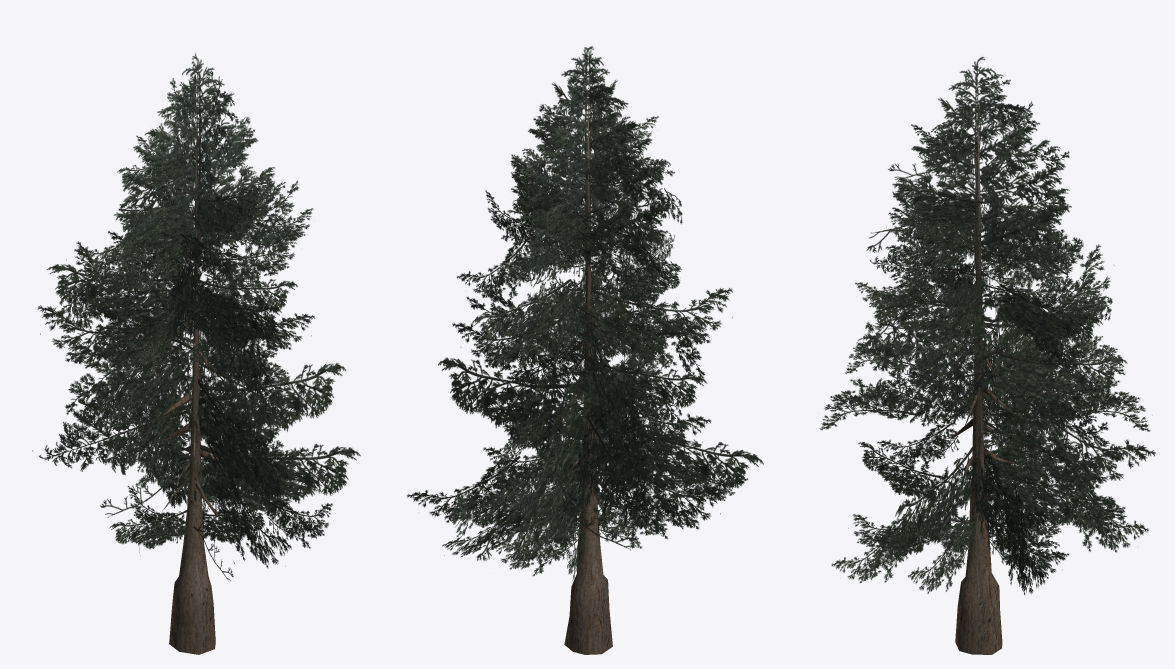
The model's file is tree-fir-wide.glb.
3 renders of one model, left to right at view 1: azimuth 30°, elevation 25°; view 2: azimuth 150°, elevation 25°; view 3: azimuth 270°, elevation 25°, orthographic.
Visible parts, largest first — view 1: Tree_Branches_01.002_Tree_Branches_01_0, Tree_Trunk_01.002_Tree_Trunk_01_0; view 2: Tree_Branches_01.002_Tree_Branches_01_0, Tree_Trunk_01.002_Tree_Trunk_01_0; view 3: Tree_Branches_01.002_Tree_Branches_01_0, Tree_Trunk_01.002_Tree_Trunk_01_0.
Part boxes in pixels (<box>): Tree_Branches_01.002_Tree_Branches_01_0: <box>32,53,360,582</box>; Tree_Trunk_01.002_Tree_Trunk_01_0: <box>147,114,229,654</box>; Tree_Branches_01.002_Tree_Branches_01_0: <box>407,46,763,581</box>; Tree_Trunk_01.002_Tree_Trunk_01_0: <box>554,98,628,654</box>; Tree_Branches_01.002_Tree_Branches_01_0: <box>819,57,1155,594</box>; Tree_Trunk_01.002_Tree_Trunk_01_0: <box>934,109,1021,654</box>.
Bounding box in the file's own units: 10.06 × 18.46 × 10.07.
Materials: 2 (2 with a texture image).
